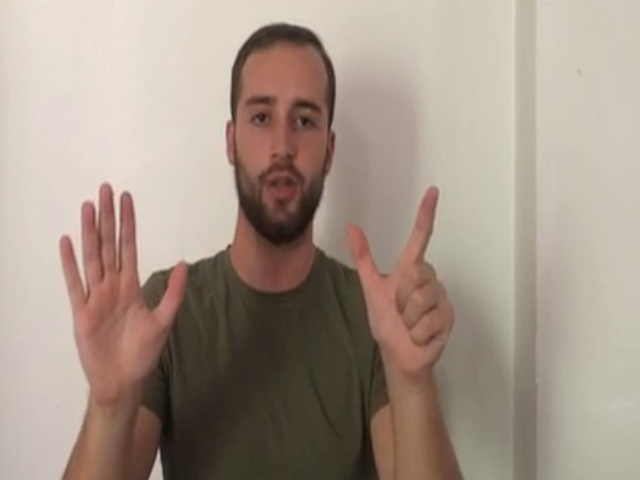Pet i Sedumnaeset: (56, 174, 459, 394)
